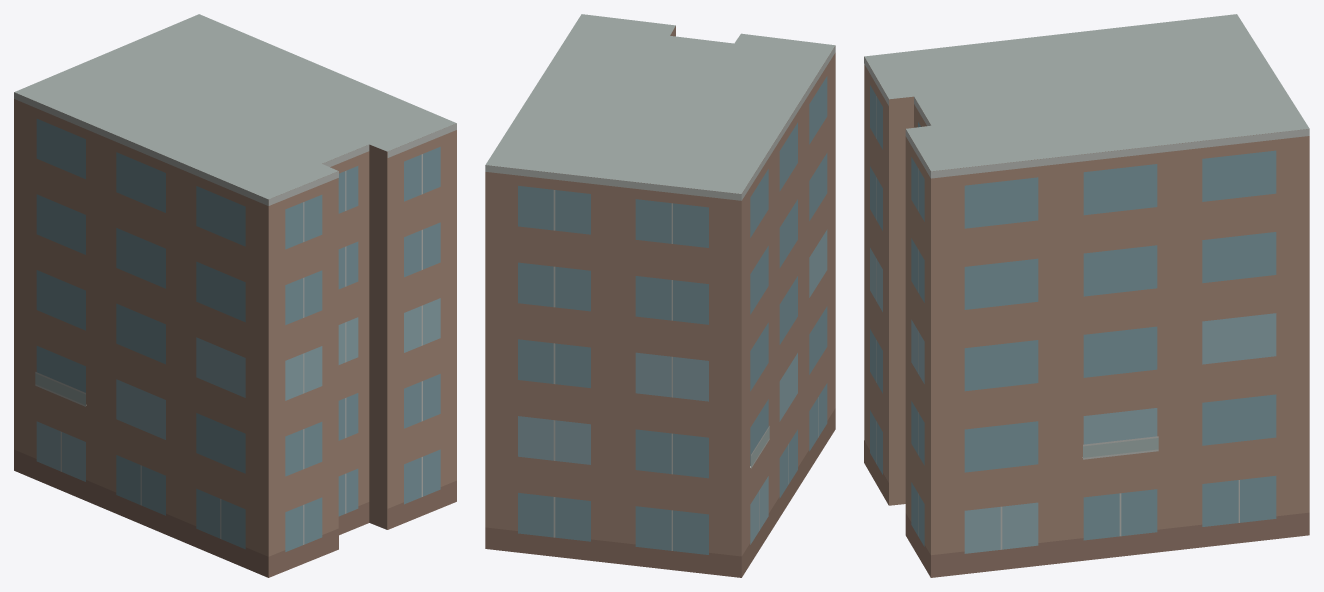
Rendered from survey-upis-33001457.glb.
3 views of the same model, side by side, from view 1: azimuth 30°, elevation 25°; view 2: azimuth 150°, elevation 25°; view 3: azimuth 270°, elevation 25° (orthographic). The views are drawn at different scales.
Visible parts, largest first — view 1: survey-upis-33001457.tmp; view 2: survey-upis-33001457.tmp; view 3: survey-upis-33001457.tmp.
Boxes of the visible parts, <box> form: survey-upis-33001457.tmp: <box>14,14,456,577</box>; survey-upis-33001457.tmp: <box>485,14,835,577</box>; survey-upis-33001457.tmp: <box>864,14,1309,577</box>.
Size of the model in its own units: 11.51 by 13.85 by 13.77.
